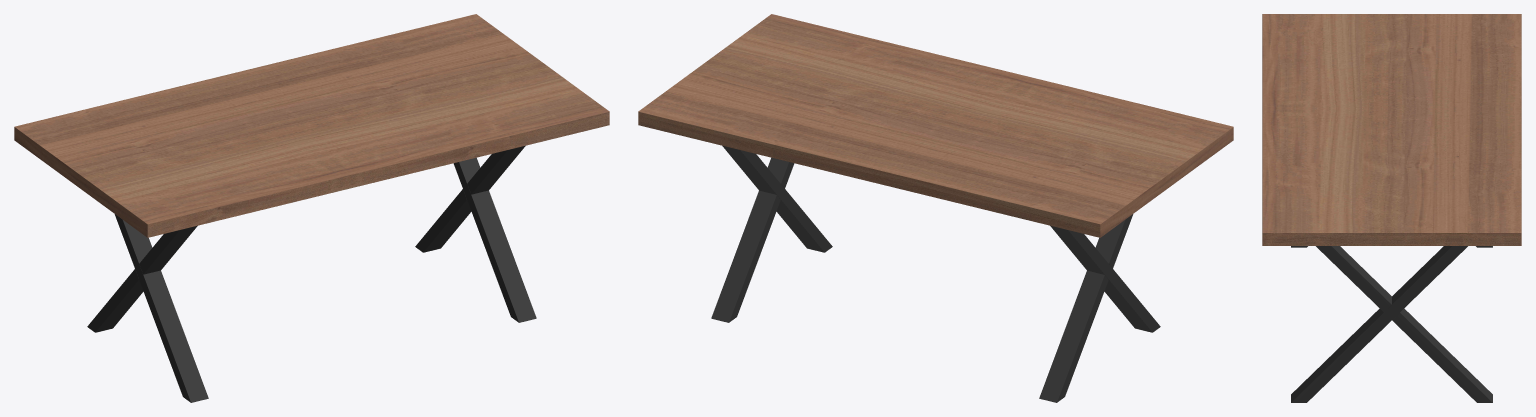
3 renders of one model, left to right at view 1: azimuth 30°, elevation 25°; view 2: azimuth 150°, elevation 25°; view 3: azimuth 270°, elevation 25°, orthographic. The views are drawn at different scales.
Parts seen in each view (by area): view 1: wood, metal; view 2: wood, metal; view 3: wood, metal.
Boxes of the visible parts, x1,y1,x2,y2 form: wood: (14, 14, 609, 237); metal: (87, 145, 536, 402); wood: (638, 14, 1233, 237); metal: (711, 145, 1160, 402); wood: (1262, 14, 1521, 245); metal: (1291, 246, 1492, 402).
Bounding box in the file's own units: 1.8 × 0.758 × 0.9.
2 materials, 1 textured.
